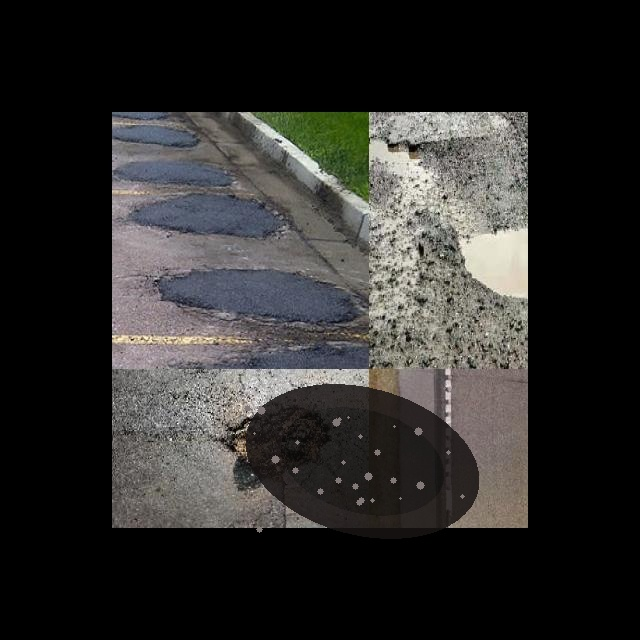pothole: (238, 383, 486, 539)
